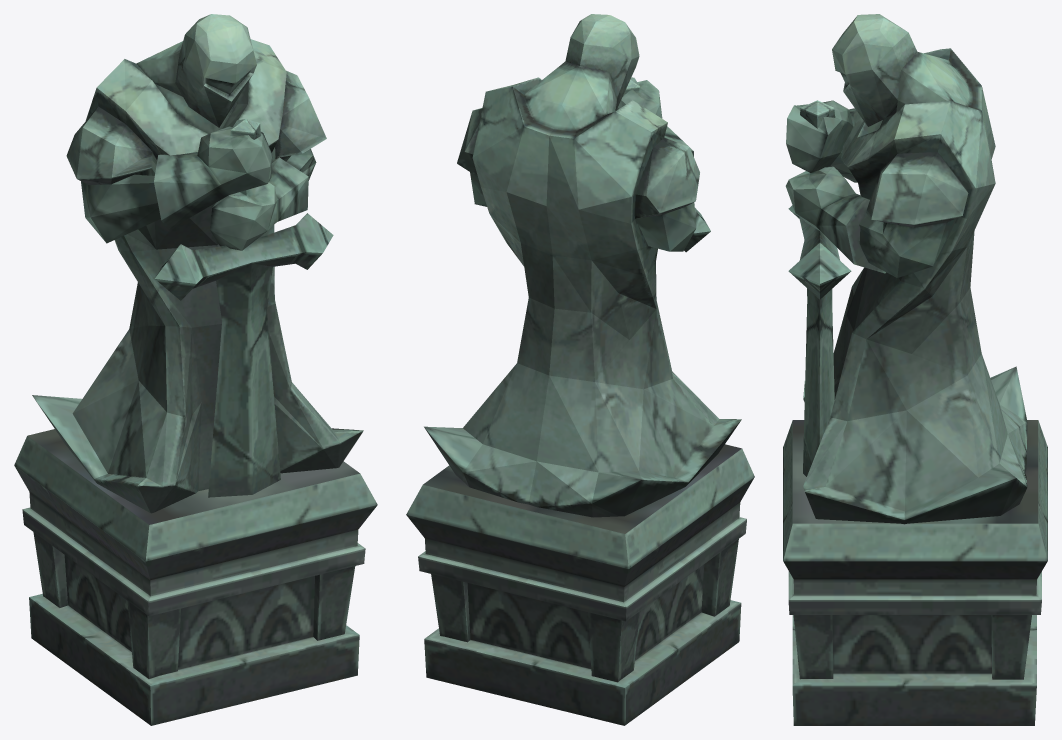
The model's file is crypt_statue01.fbx.
3 views of the same model, side by side, from view 1: azimuth 30°, elevation 25°; view 2: azimuth 150°, elevation 25°; view 3: azimuth 270°, elevation 25° (orthographic). The views are drawn at different scales.
Parts seen in each view (by area): view 1: obj0.062; view 2: obj0.062; view 3: obj0.062.
Boxes of the visible parts, x1,y1,x2,y2 form: obj0.062: (14,14,377,725); obj0.062: (406,14,754,725); obj0.062: (783,14,1047,725).
Size of the model in its own units: 1.43 by 3.73 by 1.36.
